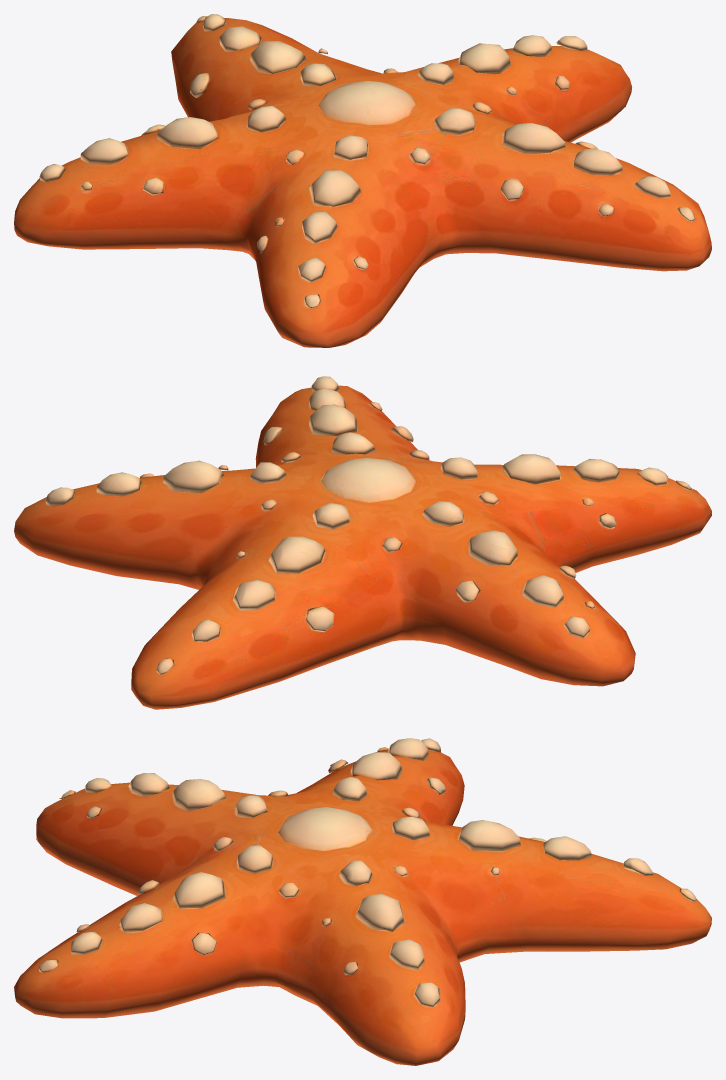
The model's file is starfish.glb.
The picture shows the model from 3 angles, top to bottom: view 1: azimuth 30°, elevation 25°; view 2: azimuth 150°, elevation 25°; view 3: azimuth 270°, elevation 25°; orthographic projection.
Parts seen in each view (by area): view 1: Mesh_0; view 2: Mesh_0; view 3: Mesh_0.
Boxes of the visible parts, x1,y1,x2,y2 form: Mesh_0: (14, 14, 711, 347); Mesh_0: (14, 376, 711, 709); Mesh_0: (14, 738, 711, 1065).
Bounding box in the file's own units: 0.9954 × 0.172 × 1.
Materials: 1 (1 with a texture image).
